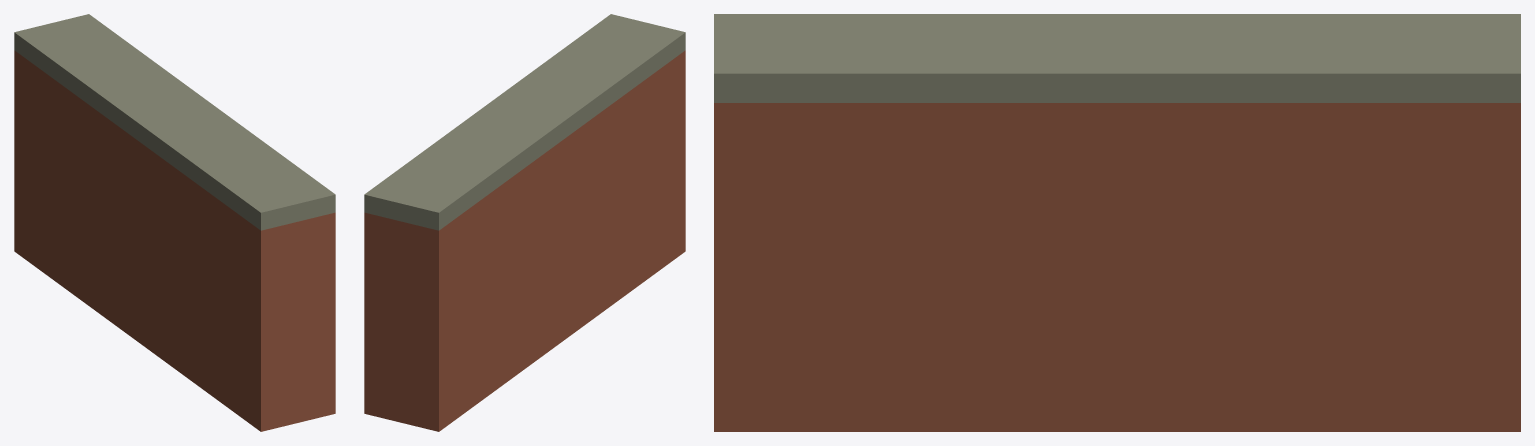
The model's file is wall.fbx.
The picture shows the model from 3 angles, left to right: view 1: azimuth 30°, elevation 25°; view 2: azimuth 150°, elevation 25°; view 3: azimuth 270°, elevation 25°; orthographic projection. The views are drawn at different scales.
Parts seen in each view (by area): view 1: wall.002; view 2: wall.002; view 3: wall.002.
Part boxes in pixels (x1=…): wall.002: x1=14, y1=14, x2=335, y2=431; wall.002: x1=364, y1=14, x2=685, y2=431; wall.002: x1=714, y1=14, x2=1520, y2=431.
Bounding box in the file's own units: 0.35 × 0.98 × 2.
